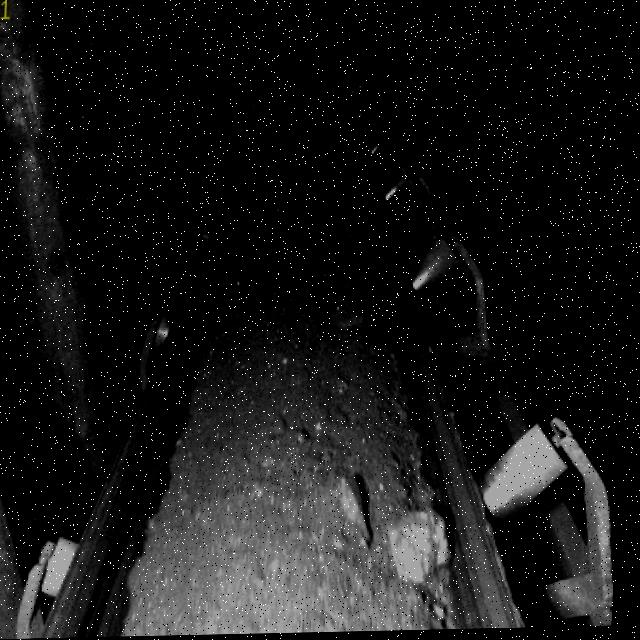large_sized_coal: (392, 515, 458, 586), (335, 473, 381, 551), (334, 285, 374, 333)
